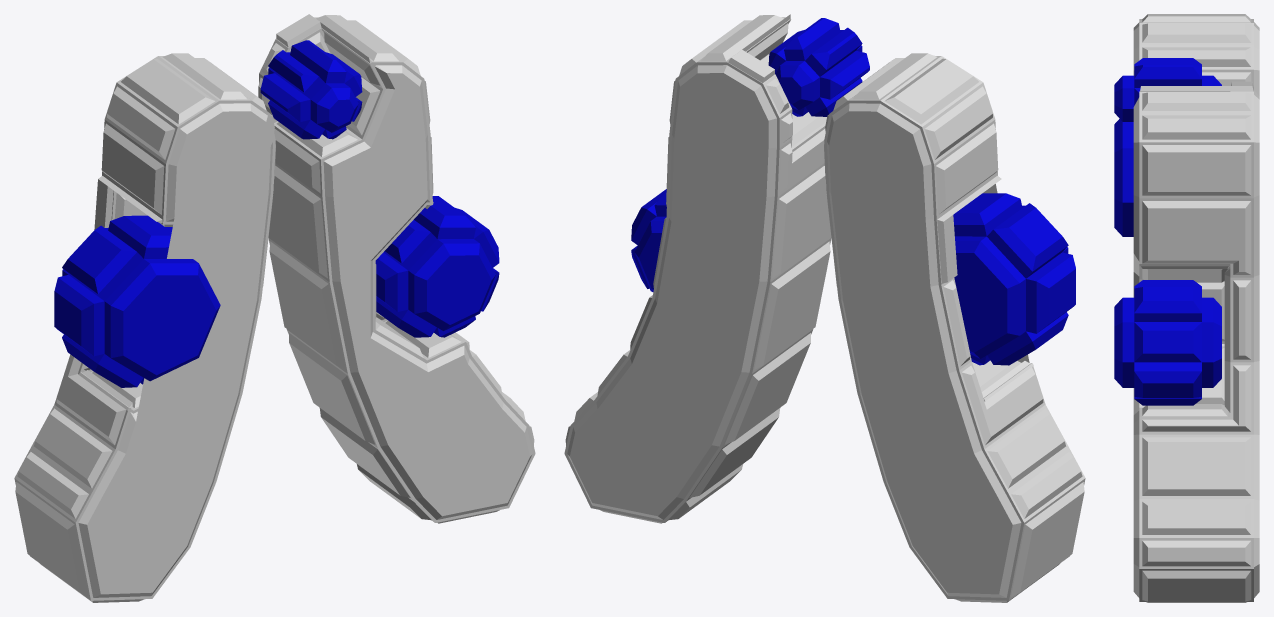
Rendered from Ch_China_八_01.fbx.
The picture shows the model from 3 angles, left to right: view 1: azimuth 30°, elevation 25°; view 2: azimuth 150°, elevation 25°; view 3: azimuth 270°, elevation 25°; orthographic projection. The views are drawn at different scales.
Parts seen in each view (by area): view 1: sphere1; view 2: sphere1; view 3: sphere1.
Boxes of the visible parts, x1,y1,x2,y2 form: sphere1: (14, 14, 535, 602); sphere1: (564, 14, 1085, 602); sphere1: (1114, 14, 1259, 602).
Size of the model in its own units: 0.8796 by 0.8942 by 0.2541.
